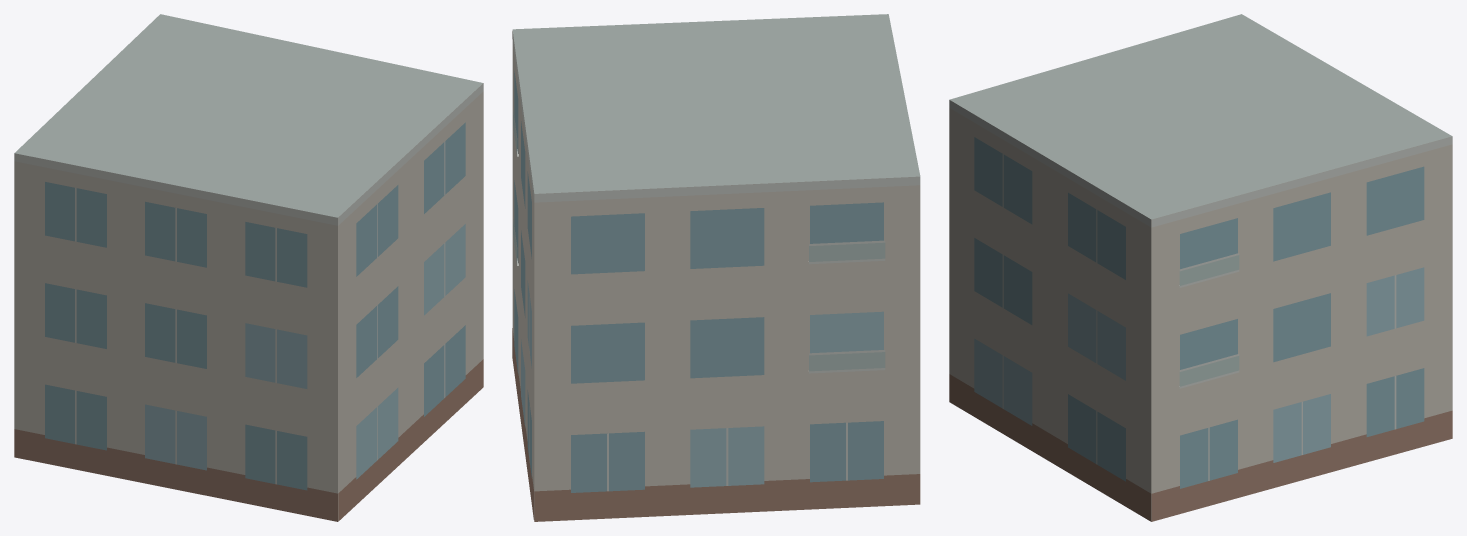
The model's file is survey-upis-32501385.glb.
3 renders of one model, left to right at view 1: azimuth 30°, elevation 25°; view 2: azimuth 150°, elevation 25°; view 3: azimuth 270°, elevation 25°, orthographic. The views are drawn at different scales.
Visible parts, largest first — view 1: survey-upis-32501385.tmp; view 2: survey-upis-32501385.tmp; view 3: survey-upis-32501385.tmp.
Boxes of the visible parts, x1,y1,x2,y2 form: survey-upis-32501385.tmp: [14, 14, 483, 521]; survey-upis-32501385.tmp: [512, 14, 920, 521]; survey-upis-32501385.tmp: [949, 14, 1452, 521].
Bounding box in the file's own units: 13.35 × 9.15 × 13.82.
